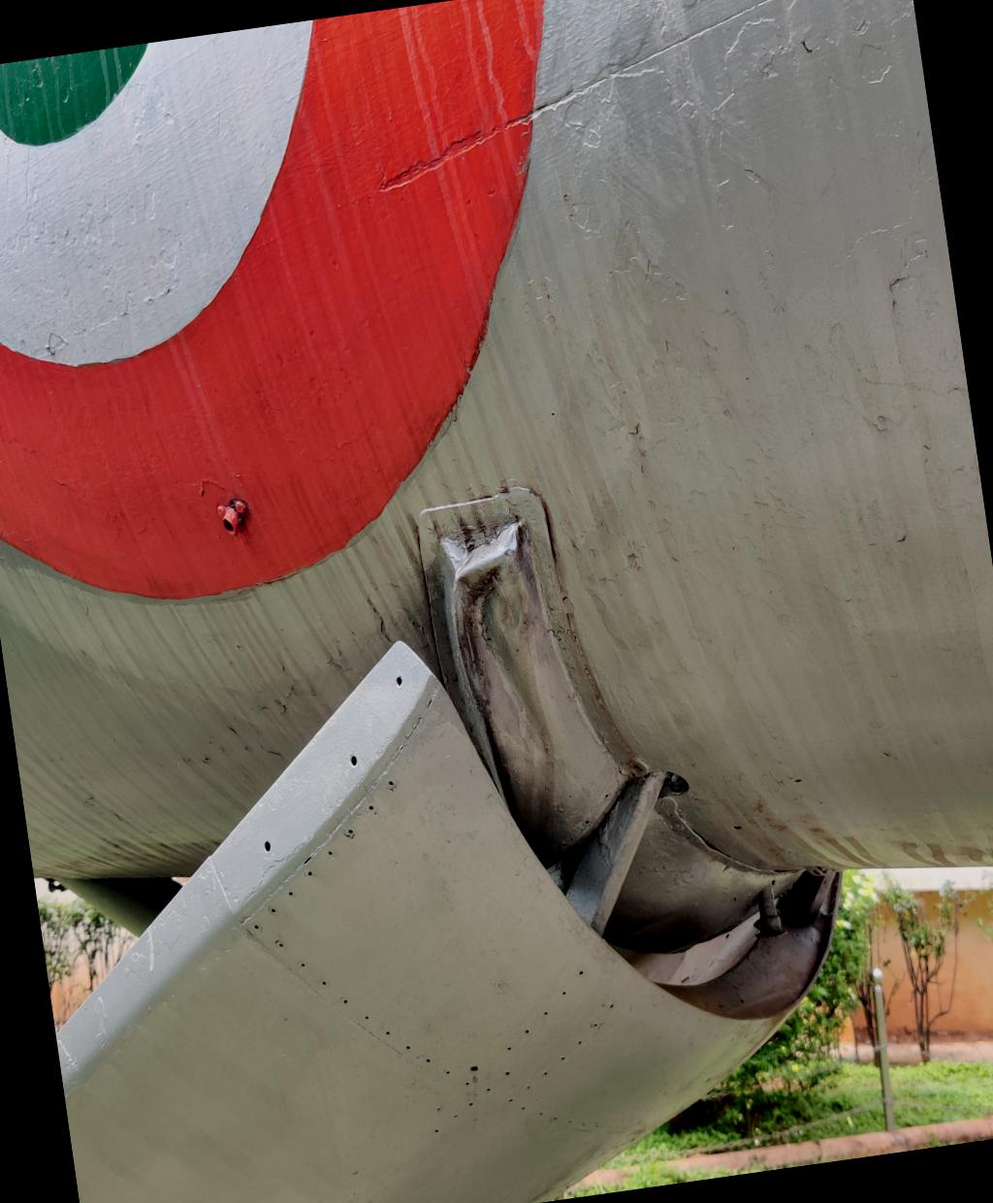dent: (412, 494, 597, 837)
